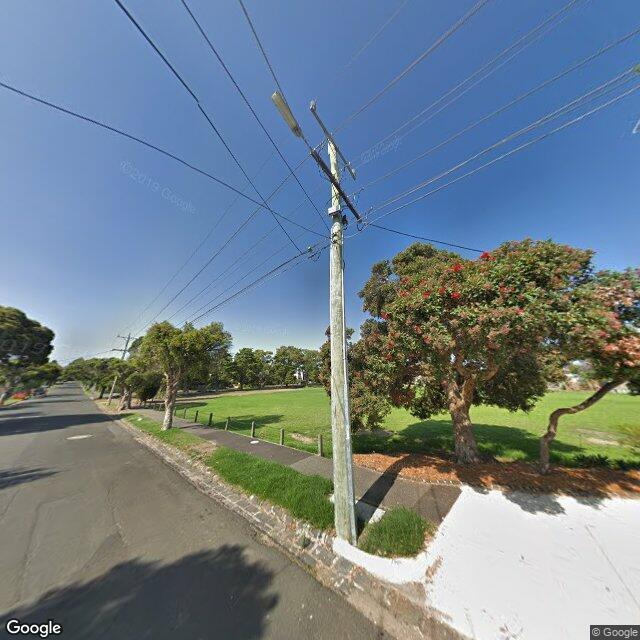HV-transmission: (310, 100, 356, 180)
crossarm: (311, 150, 375, 232), (310, 109, 356, 180), (117, 335, 138, 340), (110, 348, 128, 352)
streetlight: (272, 91, 312, 150)
timber-pole: (329, 140, 357, 547), (108, 334, 130, 404)
